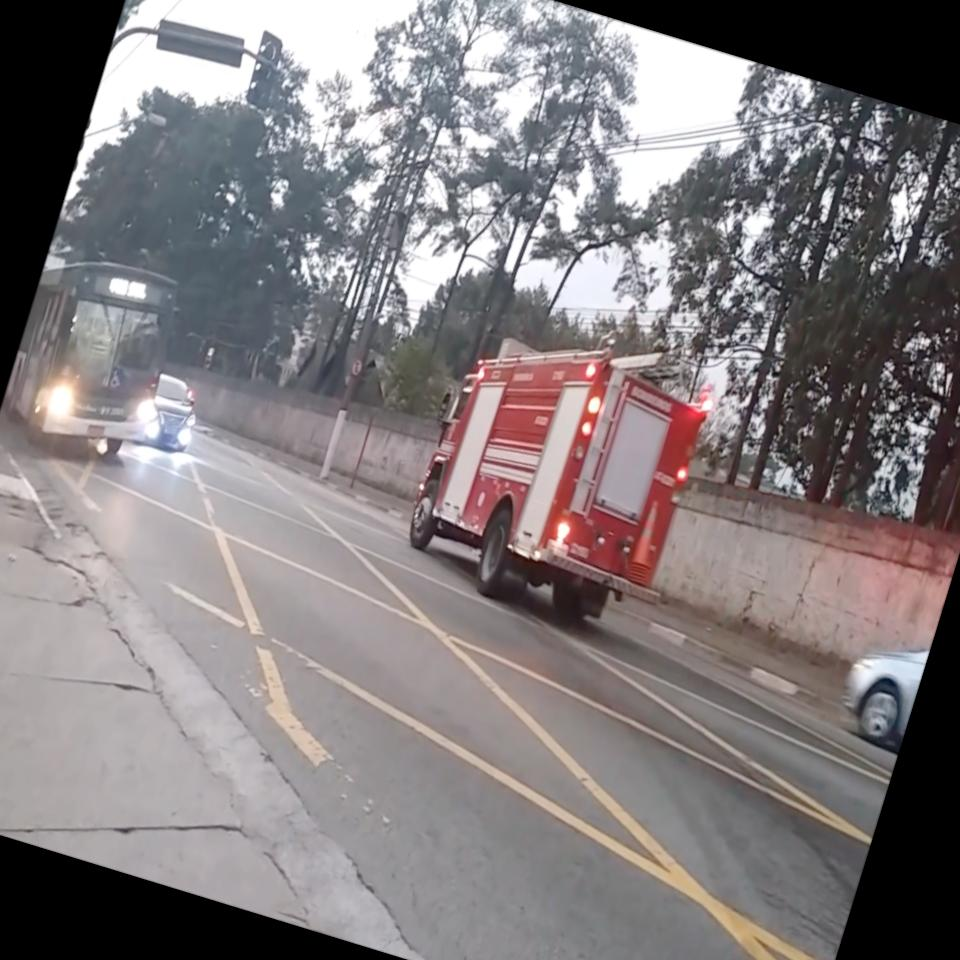viatura: (390, 295, 736, 648)
